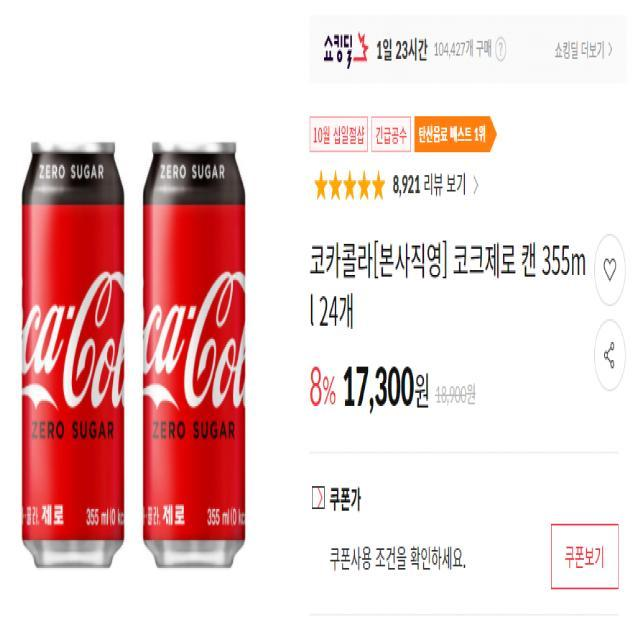coca-cola: (20, 132, 128, 588), (143, 133, 251, 581)
